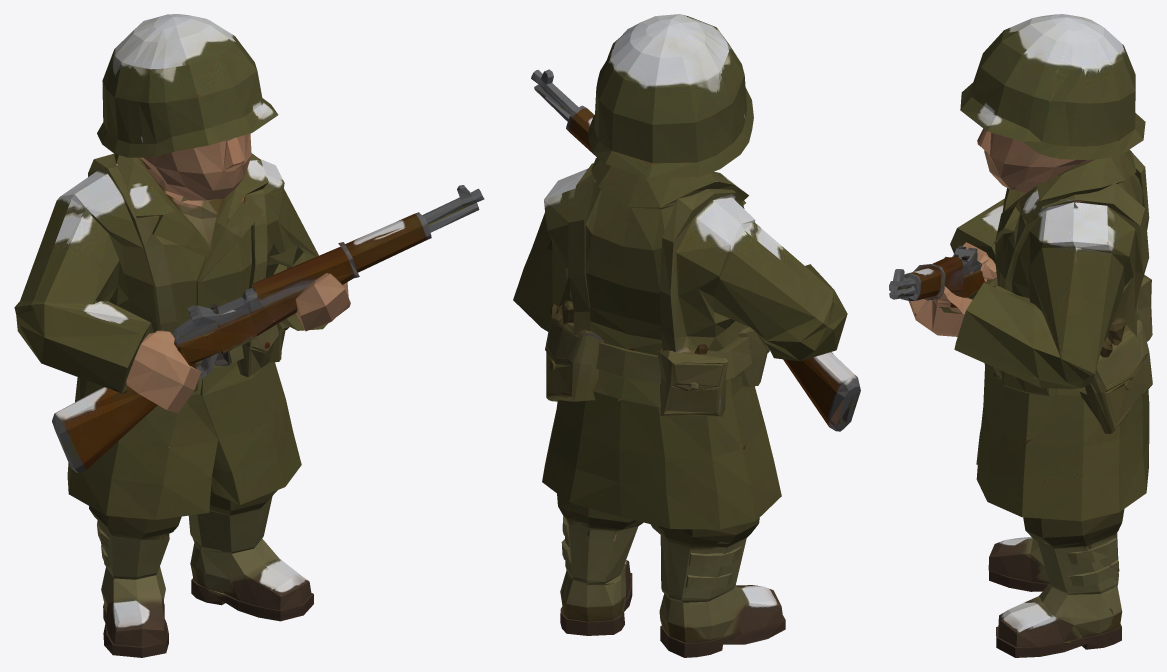
Rendered from bulge_us_inf_0.glb.
3 renders of one model, left to right at view 1: azimuth 30°, elevation 25°; view 2: azimuth 150°, elevation 25°; view 3: azimuth 270°, elevation 25°, orthographic. The views are drawn at different scales.
Parts seen in each view (by area): view 1: geometry_0; view 2: geometry_0; view 3: geometry_0.
Boxes of the visible parts, x1,y1,x2,y2 form: geometry_0: (14, 14, 484, 657); geometry_0: (513, 14, 860, 657); geometry_0: (889, 14, 1152, 657).
Size of the model in its own units: 0.2159 by 0.324 by 0.1317.
1 material, 1 textured.
